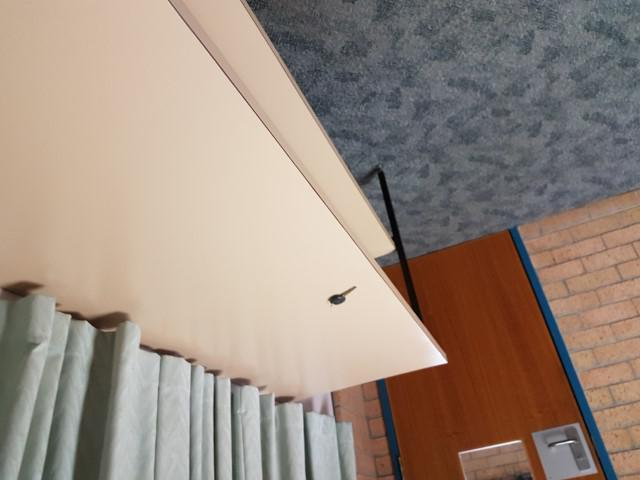key: (328, 283, 359, 307)
